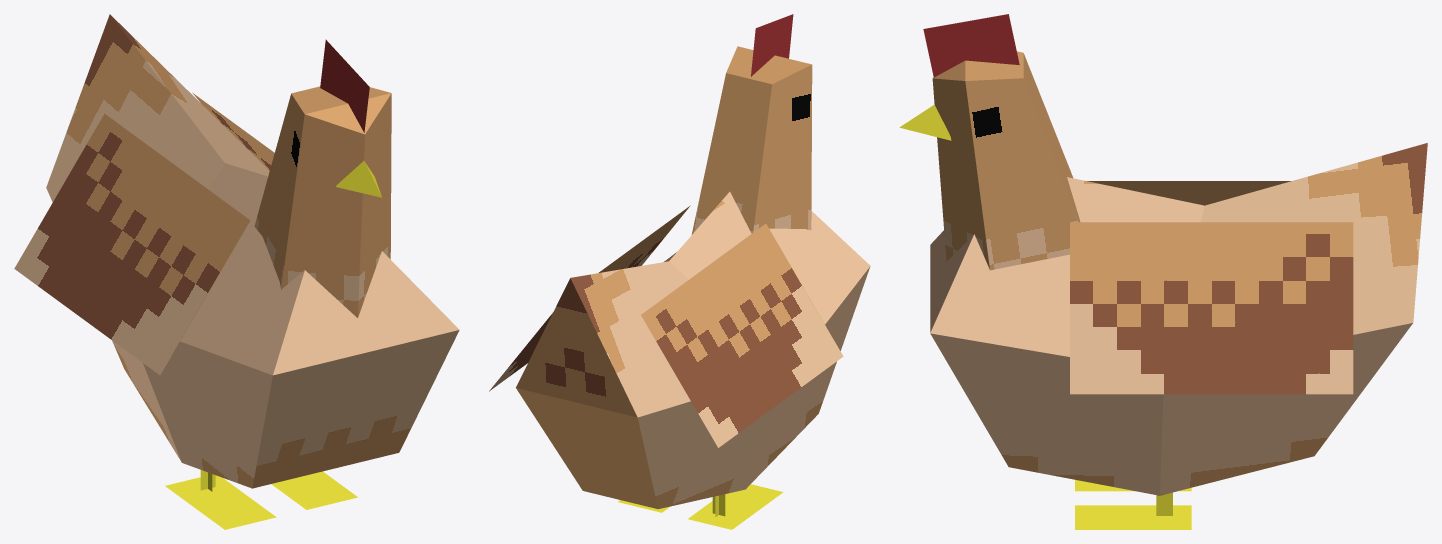
The model's file is chicken.ae745b40.glb.
The picture shows the model from 3 angles, left to right: view 1: azimuth 30°, elevation 25°; view 2: azimuth 150°, elevation 25°; view 3: azimuth 270°, elevation 25°; orthographic projection. The views are drawn at different scales.
Parts seen in each view (by area): view 1: body, head; view 2: body, head; view 3: body, head.
Part boxes in pixels (x1,y1,x2,y2): body: [14, 14, 459, 529]; head: [254, 39, 391, 317]; body: [489, 192, 870, 529]; head: [691, 14, 812, 234]; body: [930, 143, 1427, 529]; head: [899, 14, 1080, 270].
Size of the model in its own units: 0.6041 by 1.08 by 1.06.
Materials: 1 (1 with a texture image).
